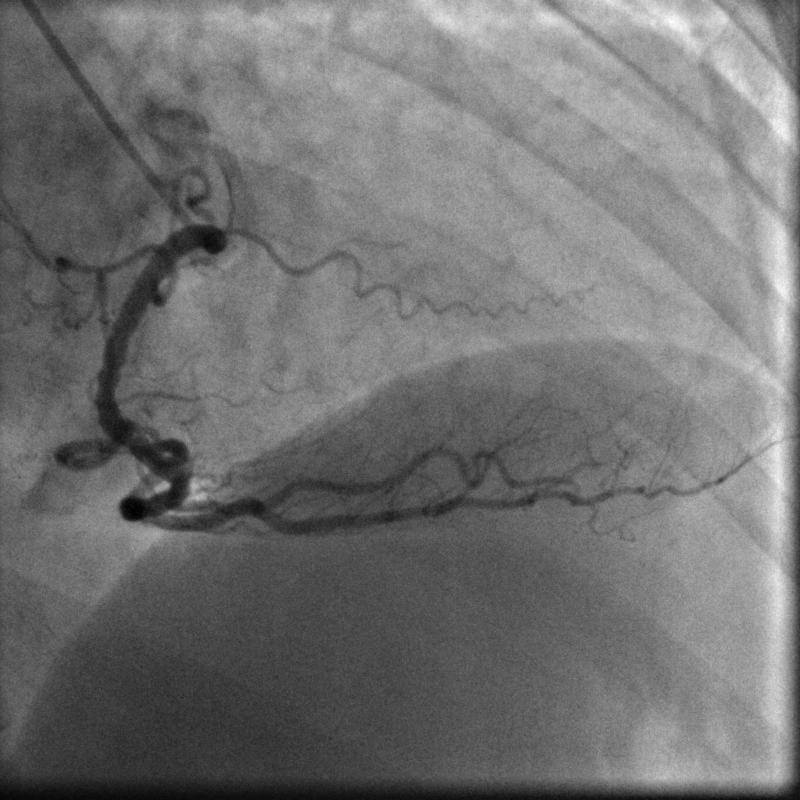Stenosis: (101, 424, 157, 459)
